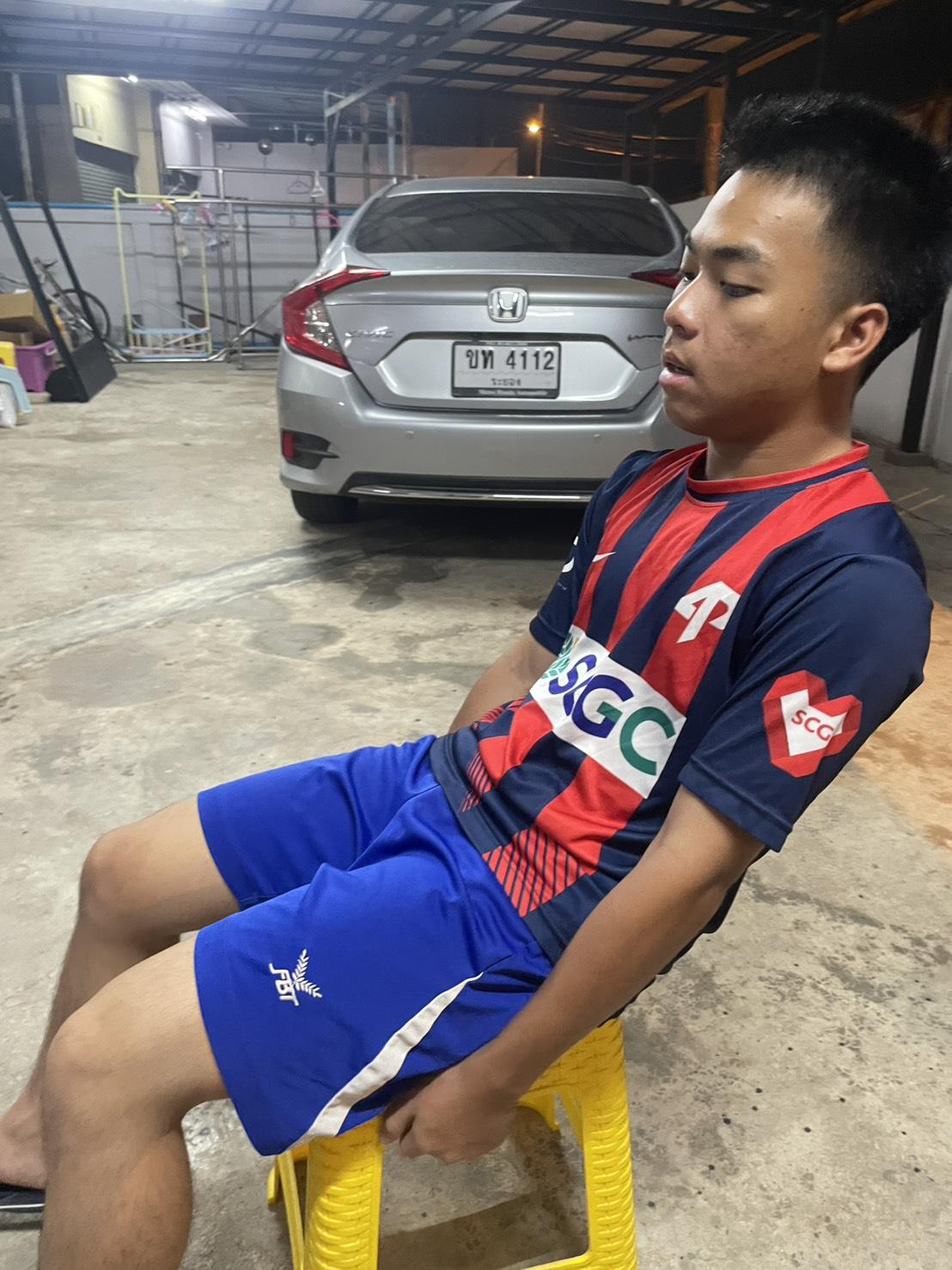BadPosture: (431, 94, 951, 960)
